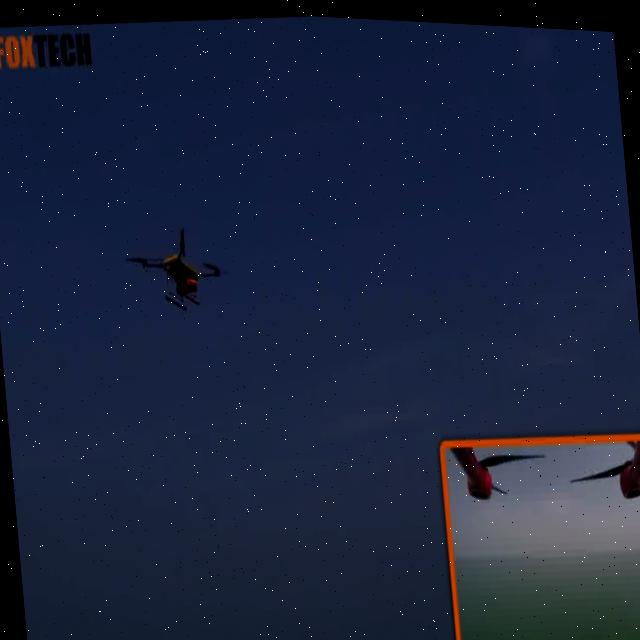drone: (129, 219, 224, 316)
